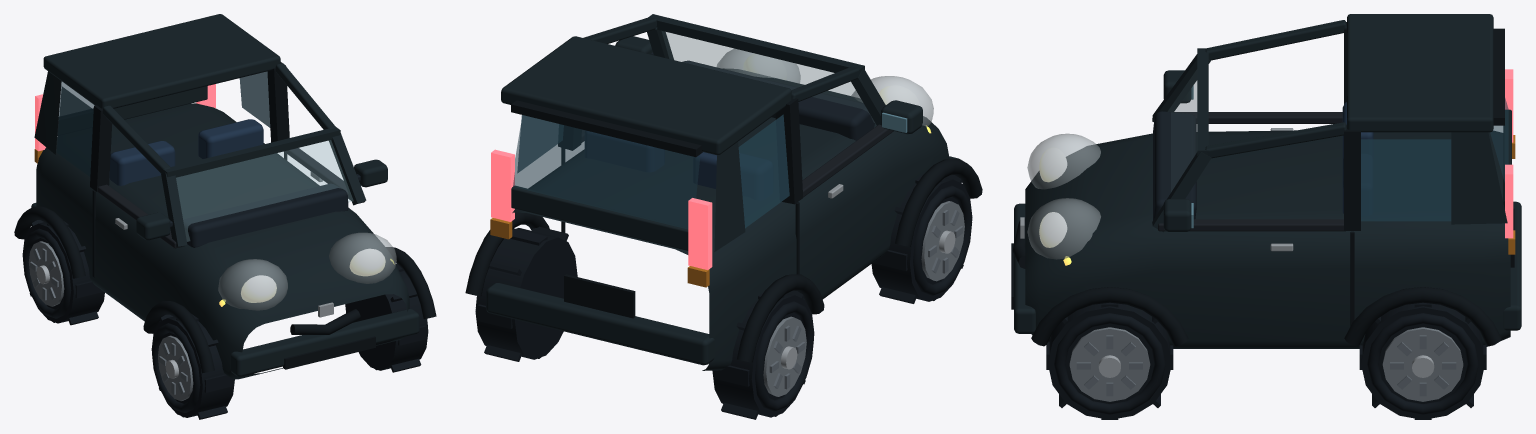
File: black-diamond.glb
3 views of the same model, side by side, from view 1: azimuth 30°, elevation 25°; view 2: azimuth 150°, elevation 25°; view 3: azimuth 270°, elevation 25° (orthographic). The views are drawn at different scales.
Parts seen in each view (by area): view 1: hull_merged, tire_merged (×3), grille-smile_merged, low-windscreen, headlight-cover_merged, dashboard, seat-back_merged, side-glass_merged, rim (×2), headlight_merged, door-top-trim_merged, mirror-shell (×2) (+3 smaller); view 2: hull_merged, tire_merged (×3), grille-smile_merged, hatch-glass, side-glass_merged, low-windscreen, seat-back_merged, rim (×2), tail-light_merged, headlight-cover_merged, dashboard, d-pillar_merged (+5 smaller); view 3: hull_merged, tire_merged (×2), grille-smile_merged, side-glass_merged, rim (×2), headlight-cover_merged, d-pillar_merged, door-top-trim_merged, dashboard, low-windscreen, cap-slot_merged (×2), headlight_merged (+4 smaller).
Boxes of the visible parts, x1,y1,x2,y2 form: hull_merged: [31, 14, 419, 379]; tire_merged (×3): [22, 220, 428, 419]; grille-smile_merged: [14, 62, 436, 373]; low-windscreen: [176, 140, 353, 241]; headlight-cover_merged: [218, 232, 396, 310]; dashboard: [183, 183, 348, 247]; seat-back_merged: [109, 119, 263, 185]; side-glass_merged: [56, 71, 270, 176]; rim (×2): [28, 241, 193, 400]; headlight_merged: [241, 249, 385, 302]; door-top-trim_merged: [98, 148, 365, 248]; mirror-shell (×2): [136, 159, 387, 240]; hull_merged: [486, 14, 958, 370]; tire_merged (×3): [475, 174, 972, 419]; grille-smile_merged: [465, 98, 982, 362]; hatch-glass: [513, 115, 700, 229]; side-glass_merged: [517, 114, 789, 228]; low-windscreen: [662, 31, 874, 122]; seat-back_merged: [584, 130, 772, 200]; rim (×2): [763, 201, 964, 396]; tail-light_merged: [491, 149, 712, 269]; headlight-cover_merged: [717, 49, 933, 126]; dashboard: [682, 60, 874, 140]; d-pillar_merged: [714, 142, 745, 251]; hull_merged: [1014, 14, 1521, 348]; tire_merged (×2): [1046, 302, 1486, 419]; grille-smile_merged: [1011, 22, 1514, 346]; side-glass_merged: [1361, 139, 1451, 221]; rim (×2): [1069, 327, 1463, 401]; headlight-cover_merged: [1027, 133, 1100, 259]; d-pillar_merged: [1451, 132, 1507, 224]; door-top-trim_merged: [1158, 112, 1345, 231]; dashboard: [1153, 111, 1196, 220]; low-windscreen: [1168, 70, 1196, 191]; cap-slot_merged (×2): [1076, 335, 1456, 396]; headlight_merged: [1039, 148, 1066, 247].
Size of the model in its own units: 2.42 by 2.26 by 3.62.
